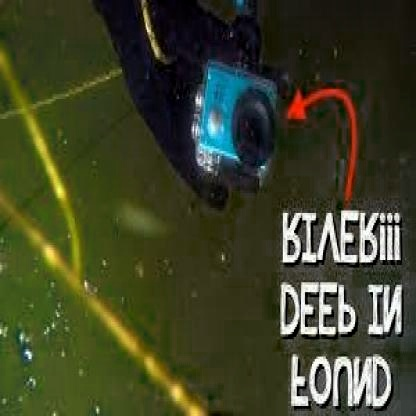electronics: (193, 57, 280, 198)
